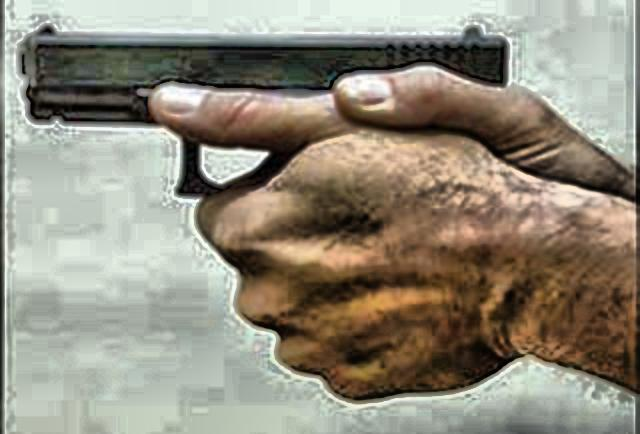pistol: (14, 16, 504, 206)
